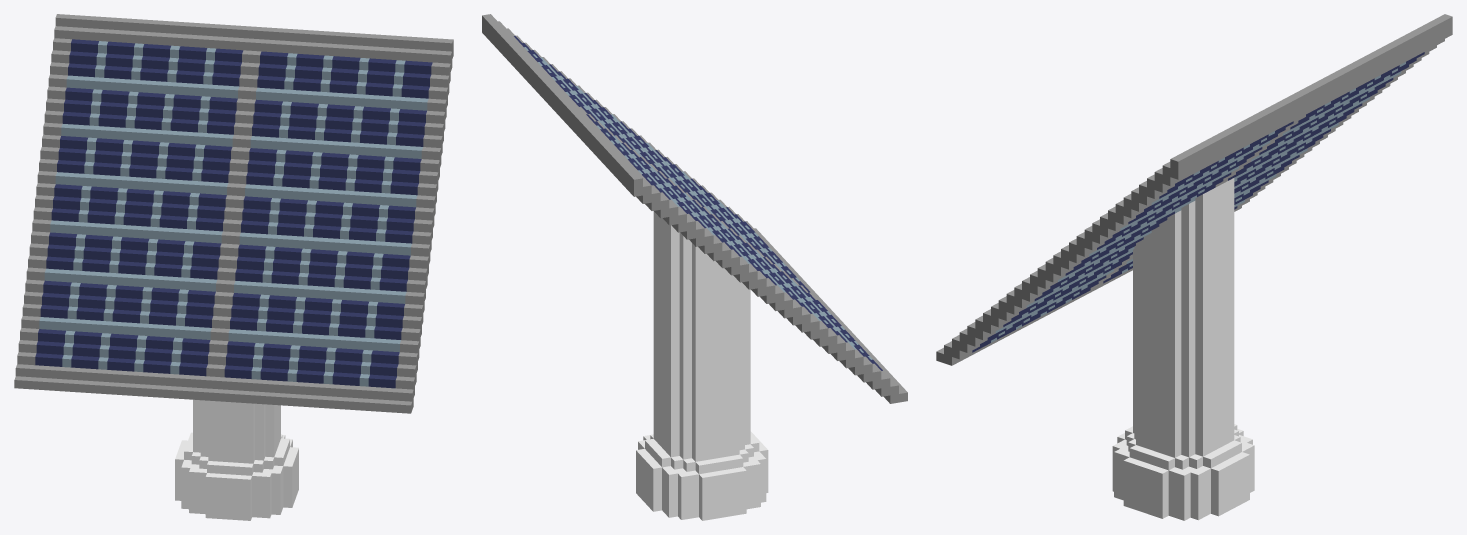
File: energetic-dao-standing-solar-panel.glb
The picture shows the model from 3 angles, left to right: view 1: azimuth 30°, elevation 25°; view 2: azimuth 150°, elevation 25°; view 3: azimuth 270°, elevation 25°; orthographic projection. The views are drawn at different scales.
Parts seen in each view (by area): view 1: standing-panel.002; view 2: standing-panel.002; view 3: standing-panel.002.
Part boxes in pixels (left/top/right/bottom): standing-panel.002: left=14, top=14, right=453, bottom=520; standing-panel.002: left=482, top=14, right=907, bottom=520; standing-panel.002: left=936, top=14, right=1452, bottom=520.
Bounding box in the file's own units: 5.37 × 4.9 × 5.17.
1 material, 1 textured.
